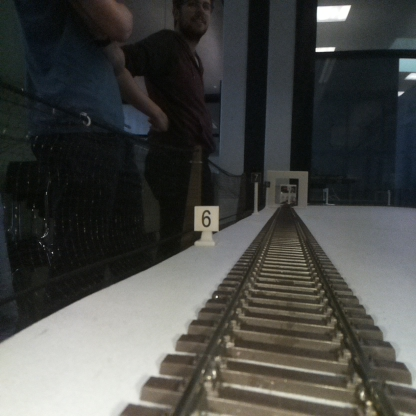black-info-7: (252, 171, 261, 214)
white-stop-6: (193, 205, 218, 249)
